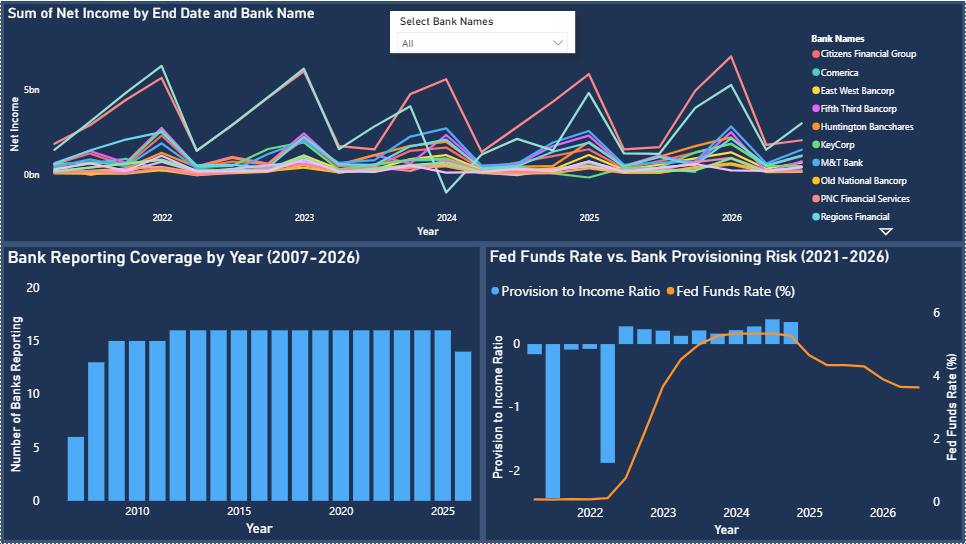

This screenshot's page, from the dashboard's own definition file:
{"tool":"powerbi","page":{"name":"Macro & Coverage Trends","canvas":[1280,720],"ordinal":8},"visuals":[{"type":"slicer","fields":{"Values":["bank_risk_ratios.bank_name"]},"box":[1092,0,188.6,69.1],"z":1000},{"type":"lineChart","title":"Sum of Net Income by End Date and Bank Name","fields":{"Category":["bank_risk_ratios.end_date"],"Series":["bank_risk_ratios.bank_name"],"Y":["Sum(bank_risk_ratios.net_income)"]},"box":[0,0,1280.6,322.8],"z":3001},{"type":"slicer","fields":{"Values":["bank_risk_ratios.bank_name"]},"box":[516.8,13.3,245.8,55.8],"z":3002},{"type":"clusteredColumnChart","title":"Bank Reporting Coverage by Year (2007-2026)","fields":{"Category":["bank_risk_ratios.end_date.Variation.Date Hierarchy.Year"],"Y":["Count(bank_risk_ratios.bank_name)"]},"box":[0,322.8,640.3,397.2],"z":3003},{"type":"lineStackedColumnComboChart","title":"Fed Funds Rate vs. Bank Provisioning Risk (2021-2026)","fields":{"Category":["bank_risk_ratios.end_date"],"Y":["Avg(bank_risk_ratios.provision_to_income_ratio)"],"Y2":["Avg(bank_risk_ratios.avg_fed_funds_daily)"]},"box":[640.3,322.8,640.3,397.2],"z":3004}]}

Visuals, with their boxes in screenshot pixels (x1, y1, x2, y2), scaled from the page's 1280x720 canvas onto the 966x544 screenshot:
slicer - bank_risk_ratios.bank_name: crop(824, 0, 965, 52)
"Sum of Net Income by End Date and Bank Name" lineChart: crop(0, 0, 965, 244)
slicer - bank_risk_ratios.bank_name: crop(390, 10, 576, 52)
"Bank Reporting Coverage by Year (2007-2026)" clusteredColumnChart: crop(0, 244, 483, 543)
"Fed Funds Rate vs. Bank Provisioning Risk (2021-2026)" lineStackedColumnComboChart: crop(483, 244, 965, 543)
